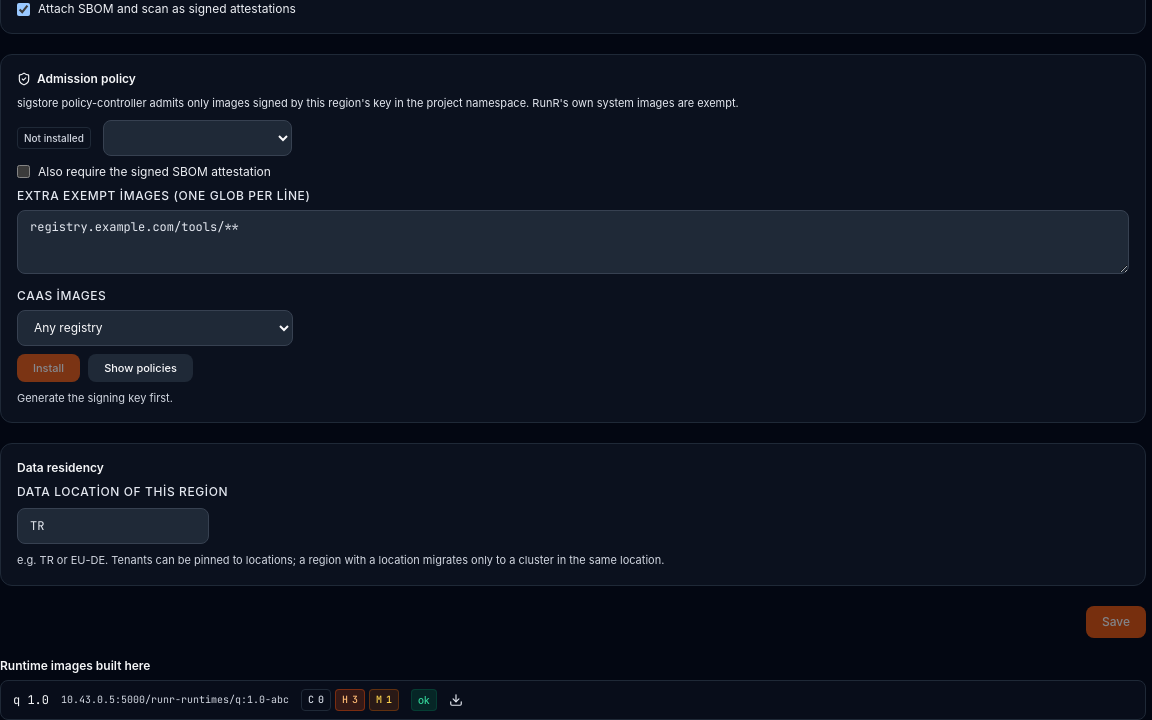
Test: RegionSupplyChainTab › previews the policies
(page scrolled)
Step 1. Click the button "Show policies" → (140, 368), box [88,354,193,382]
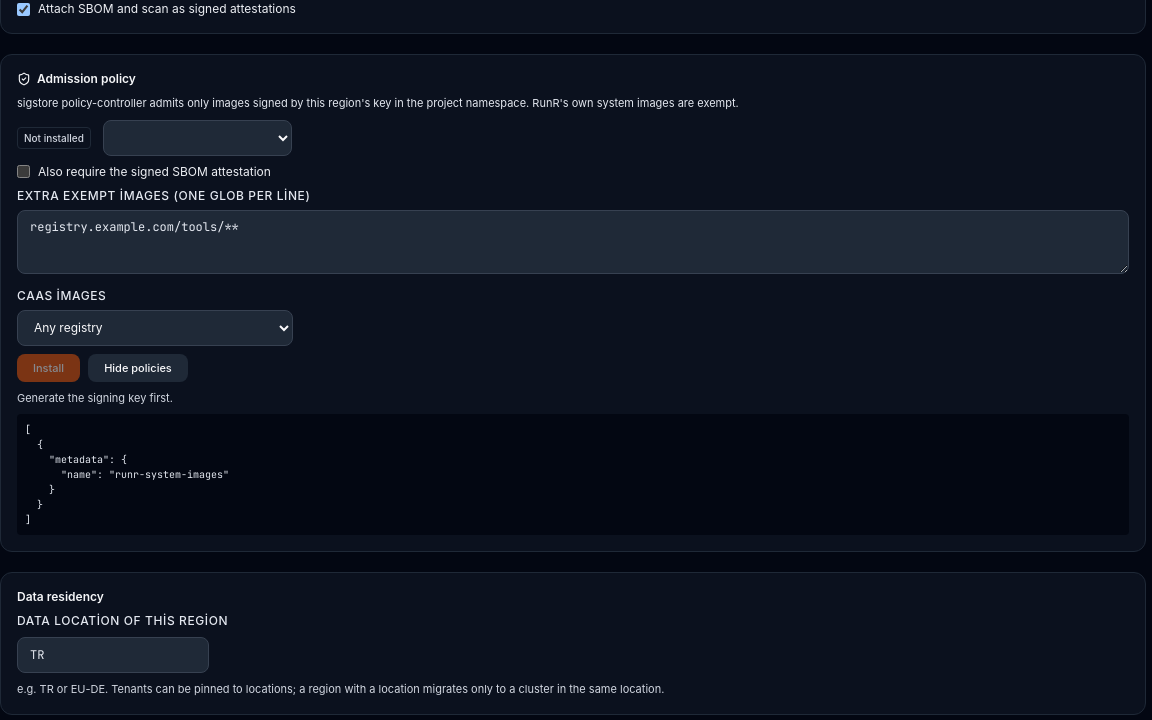
Now the text "[ { \"metadata\": { \"name\": \"runr-system-images\" } } ]" is shown, box [17,414,1129,535]
